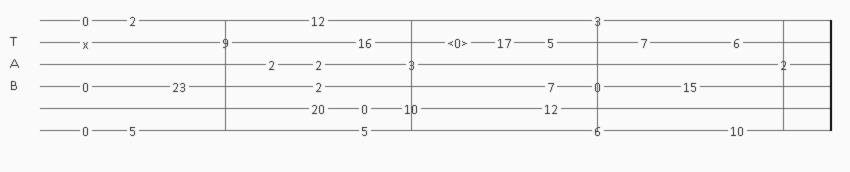0: (82, 14, 93, 27), (82, 124, 93, 137), (82, 80, 93, 93), (361, 102, 372, 115), (594, 80, 605, 93)
10: (404, 102, 422, 115), (730, 124, 748, 137)
12: (311, 14, 329, 27), (544, 102, 562, 115)
15: (683, 80, 701, 93)
16: (358, 36, 376, 49)
17: (497, 36, 515, 49)
2: (129, 14, 140, 27), (268, 58, 279, 71), (315, 58, 326, 71), (315, 80, 326, 93), (780, 58, 791, 71)
20: (311, 102, 329, 115)
23: (172, 80, 190, 93)
3: (408, 58, 419, 71), (594, 14, 605, 27)
5: (129, 124, 140, 137), (361, 124, 372, 137), (547, 36, 558, 49)
6: (594, 124, 605, 137), (733, 36, 744, 49)
7: (547, 80, 558, 93), (640, 36, 651, 49)
9: (222, 36, 233, 49)
harmonic: (447, 36, 472, 49)
x: (82, 37, 93, 48)
